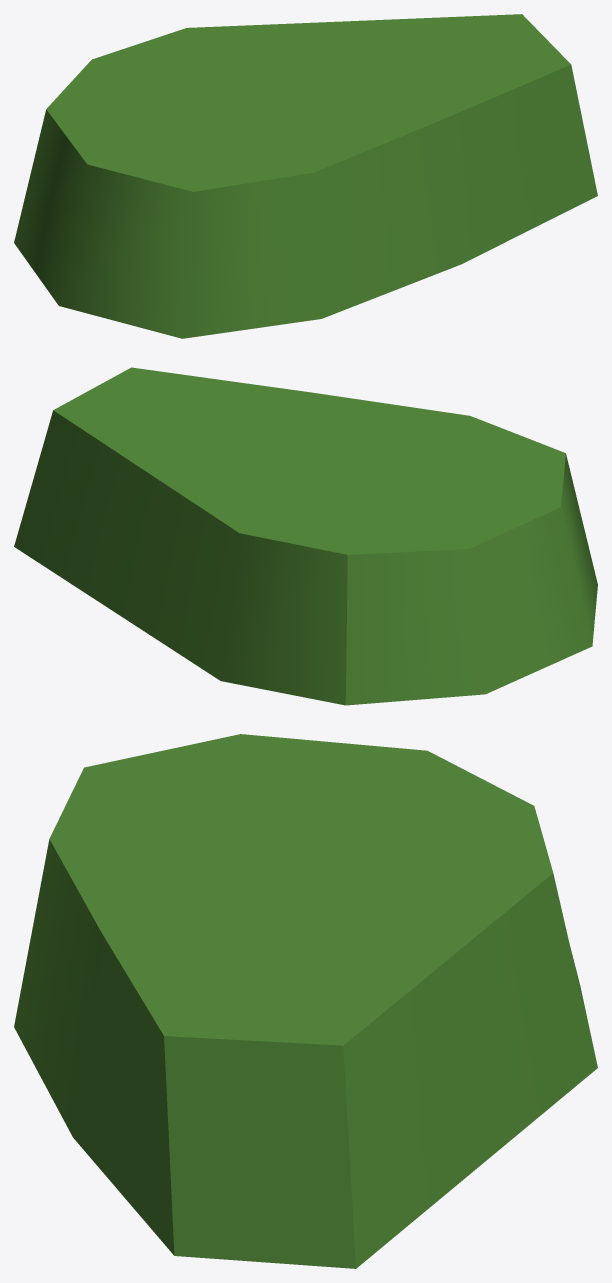
Rendered from grass_layer_crumb_small_A.fbx.
3 views of the same model, one above another, from view 1: azimuth 30°, elevation 25°; view 2: azimuth 150°, elevation 25°; view 3: azimuth 270°, elevation 25° (orthographic). The views are drawn at different scales.
Visible parts, largest first — view 1: grass_layer_crumb_small_A; view 2: grass_layer_crumb_small_A; view 3: grass_layer_crumb_small_A.
Boxes of the visible parts, left/top/right/bottom form: grass_layer_crumb_small_A: left=14, top=14, right=597, bottom=338; grass_layer_crumb_small_A: left=14, top=367, right=597, bottom=705; grass_layer_crumb_small_A: left=14, top=734, right=597, bottom=1268.
Bounding box in the file's own units: 63.15 × 15.96 × 42.33.
